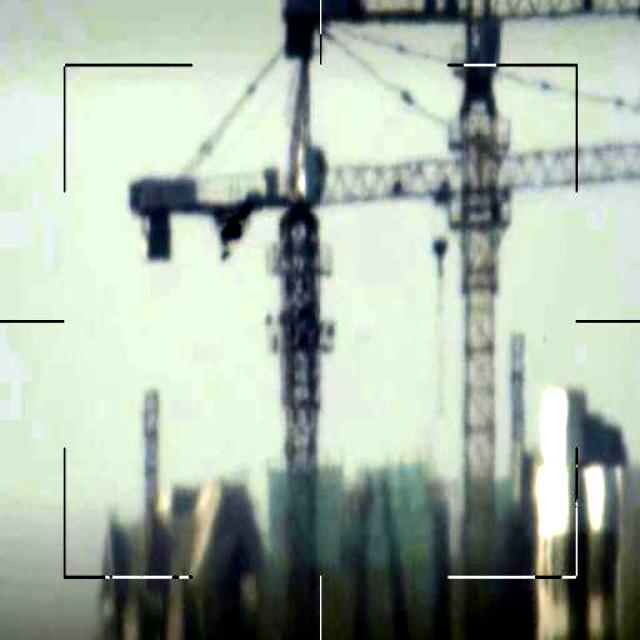bird: (209, 199, 260, 266)
